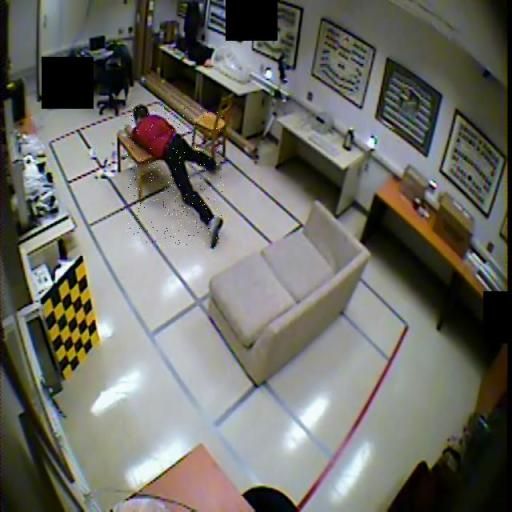Fall: (125, 105, 224, 249)
